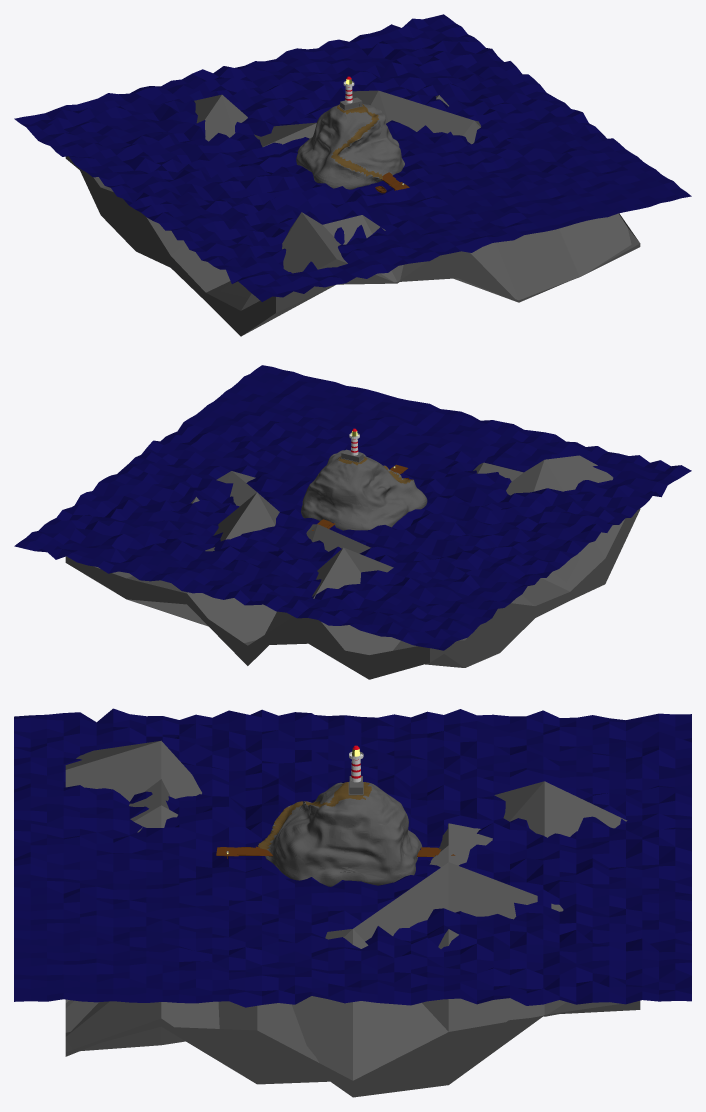
The model's file is BoatTest.fbx.
3 renders of one model, top to bottom at view 1: azimuth 30°, elevation 25°; view 2: azimuth 150°, elevation 25°; view 3: azimuth 270°, elevation 25°, orthographic. The views are drawn at different scales.
Parts seen in each view (by area): view 1: Water, Rocks, Island; view 2: Water, Rocks, Island; view 3: Water, Rocks, Island, Planks, Light House.
Boxes of the visible parts, box(x1,y1,x2,y2) form: Water: box(14, 14, 691, 301); Rocks: box(65, 90, 640, 336); Island: box(296, 103, 404, 189); Water: box(14, 365, 691, 650); Rocks: box(65, 455, 640, 679); Island: box(301, 450, 427, 530); Water: box(14, 708, 691, 1007); Rocks: box(65, 740, 640, 1097); Island: box(258, 782, 422, 886); Planks: box(216, 846, 455, 856); Light House: box(348, 745, 363, 795).
Bounding box in the file's own units: 44220 × 16603 × 44220.
